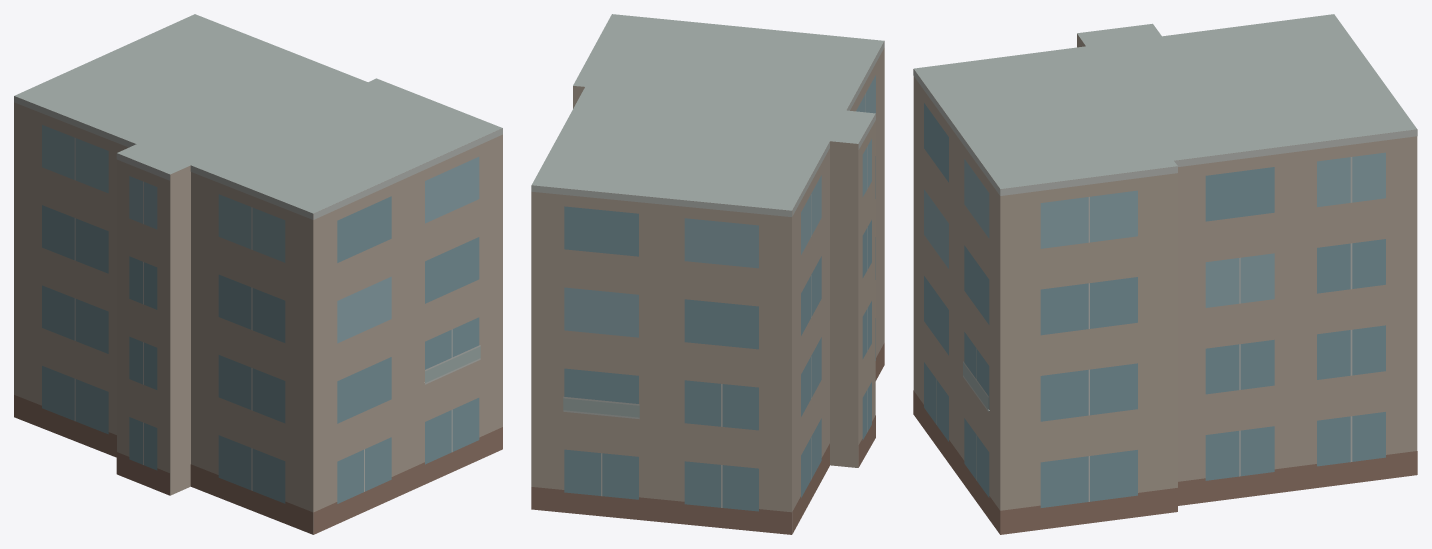
The model's file is survey-upis-32935905.glb.
3 renders of one model, left to right at view 1: azimuth 30°, elevation 25°; view 2: azimuth 150°, elevation 25°; view 3: azimuth 270°, elevation 25°, orthographic. The views are drawn at different scales.
Parts seen in each view (by area): view 1: survey-upis-32935905.tmp; view 2: survey-upis-32935905.tmp; view 3: survey-upis-32935905.tmp.
Boxes of the visible parts, x1,y1,x2,y2 form: survey-upis-32935905.tmp: (14, 14, 502, 534); survey-upis-32935905.tmp: (531, 14, 884, 534); survey-upis-32935905.tmp: (913, 14, 1417, 534).
Bounding box in the file's own units: 13.27 × 12.2 × 16.13.
